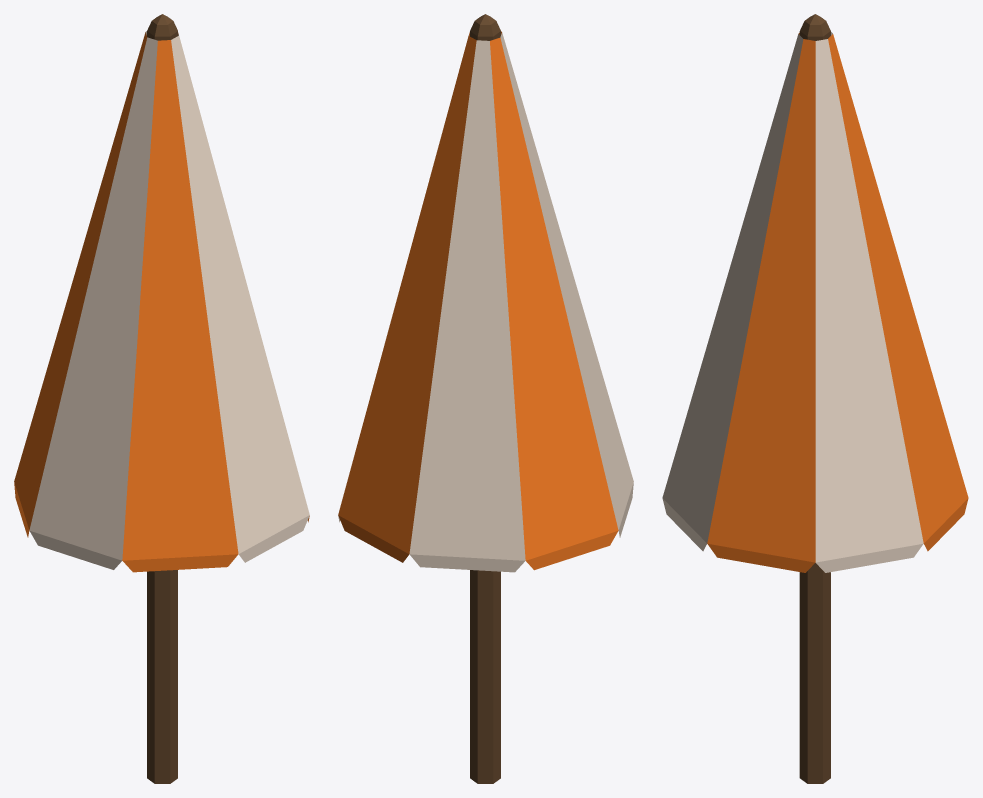
The model's file is beach_sunscreen-closed.fbx.
3 renders of one model, left to right at view 1: azimuth 30°, elevation 25°; view 2: azimuth 150°, elevation 25°; view 3: azimuth 270°, elevation 25°, orthographic.
Visible parts, largest first — view 1: beach_sunscreen_closed; view 2: beach_sunscreen_closed; view 3: beach_sunscreen_closed.
Boxes of the visible parts, box(x1,y1,x2,y2) form: beach_sunscreen_closed: box(14, 14, 309, 783); beach_sunscreen_closed: box(338, 14, 633, 783); beach_sunscreen_closed: box(662, 14, 968, 783).
Bounding box in the file's own units: 72.61 × 200 × 72.61.
